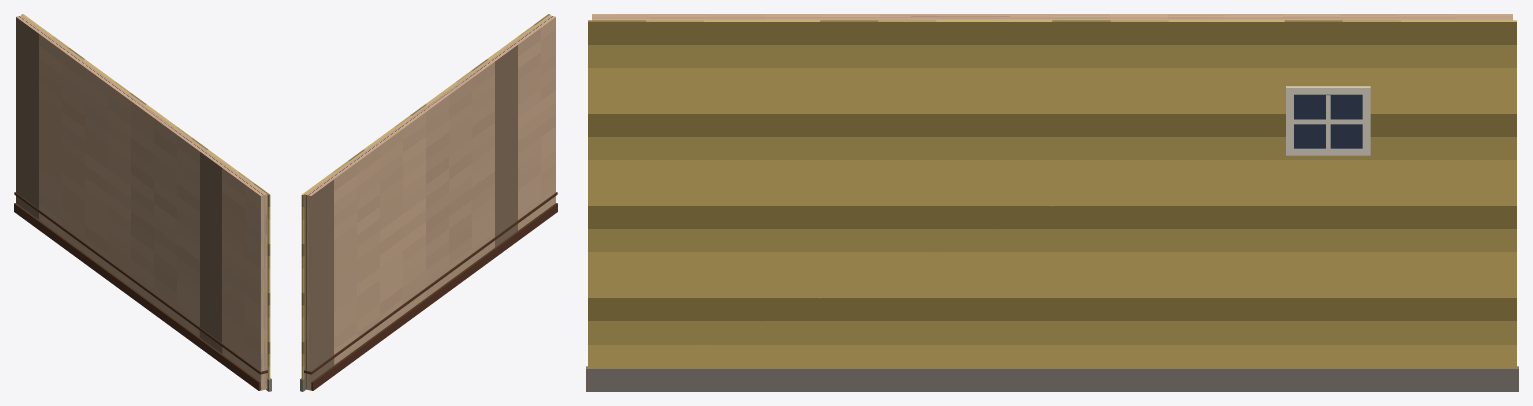
Rendered from right.glb.
The picture shows the model from 3 angles, left to right: view 1: azimuth 30°, elevation 25°; view 2: azimuth 150°, elevation 25°; view 3: azimuth 270°, elevation 25°; orthographic projection. The views are drawn at different scales.
Visible parts, largest first — view 1: Box1, Box2, Box9, Box3, Box10; view 2: Box1, Box2, Box9, Box3, Box10; view 3: Box3, Box4, Box1, Box6, Box5.
Part boxes in pixels (x1,y1,x2,y2): Box1: (16,15,267,390); Box2: (14,203,260,390); Box9: (16,197,267,390); Box3: (21,14,270,379); Box10: (14,192,267,374); Box1: (304,15,555,390); Box2: (311,203,557,390); Box9: (304,196,555,390); Box3: (301,14,550,379); Box10: (304,192,557,374); Box3: (588,20,1516,368); Box4: (586,366,1518,391); Box1: (592,14,1512,20); Box6: (1294,94,1362,148); Box5: (1286,86,1370,155).
Size of the model in its own units: 0.278 by 4.14 by 9.47.
Materials: 6 (2 with a texture image).
